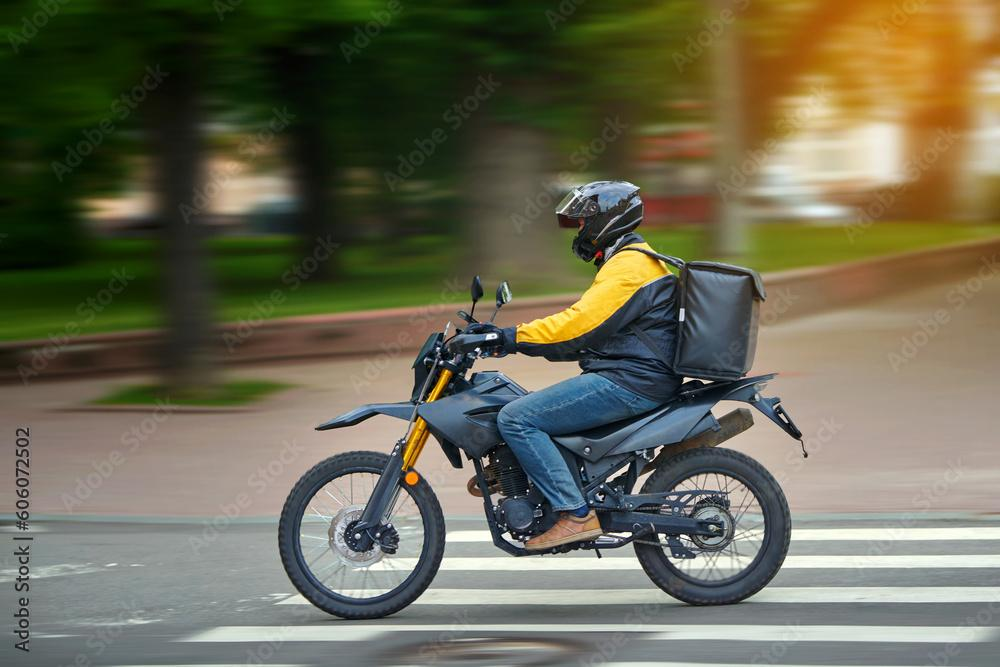helmet: (554, 178, 645, 264)
